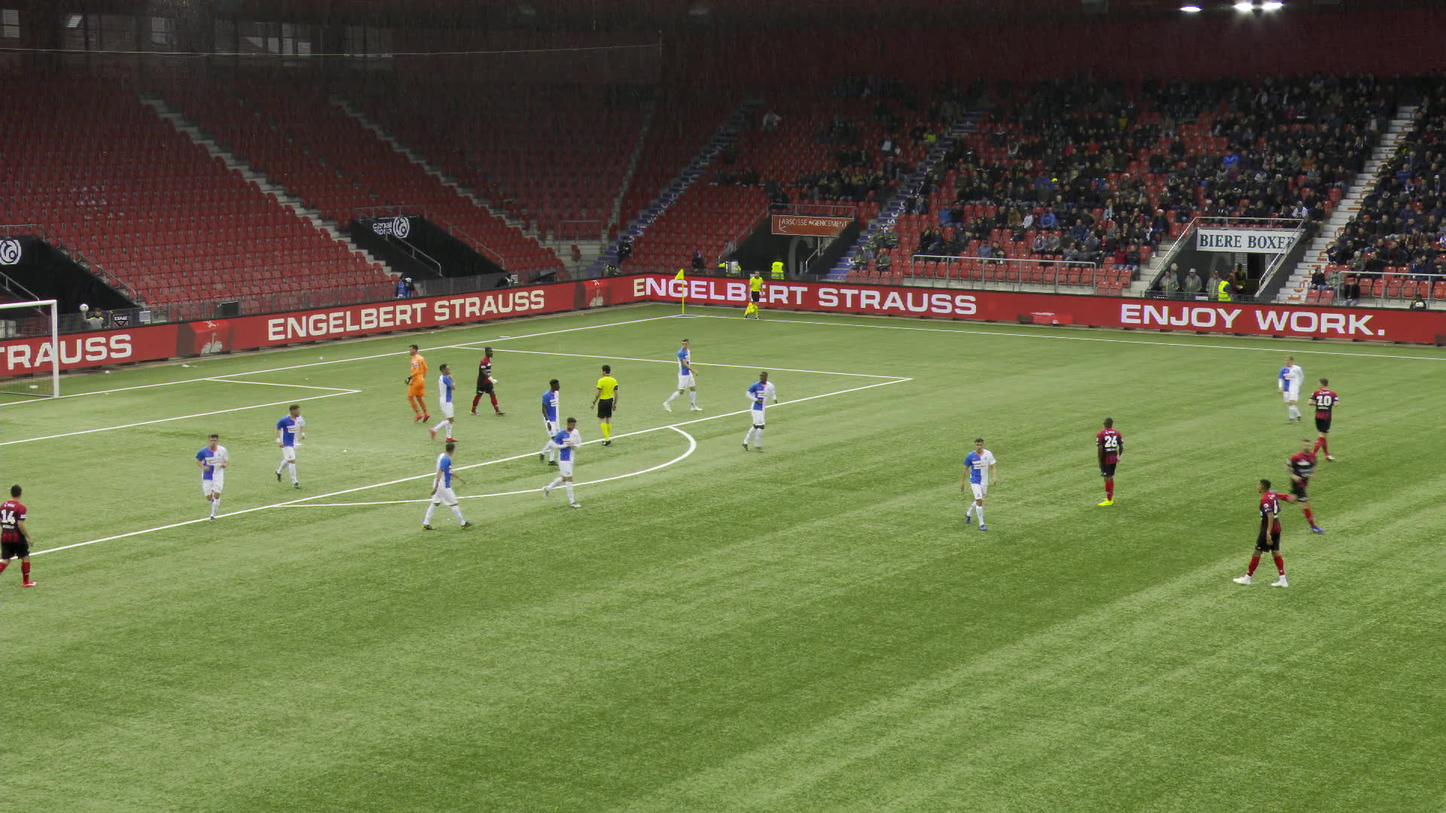player: (1234, 474, 1291, 586), (2, 480, 45, 589), (1266, 438, 1313, 529), (421, 440, 465, 530), (958, 436, 996, 530), (731, 371, 774, 453), (544, 417, 580, 507), (197, 428, 232, 518), (1301, 379, 1338, 464), (272, 404, 308, 487), (1092, 416, 1124, 505), (534, 377, 566, 465), (664, 336, 702, 410), (427, 361, 461, 443), (406, 345, 434, 425), (1271, 358, 1304, 425), (471, 344, 499, 416), (1423, 498, 1445, 522)
referee: (591, 364, 620, 446), (746, 269, 764, 318)
